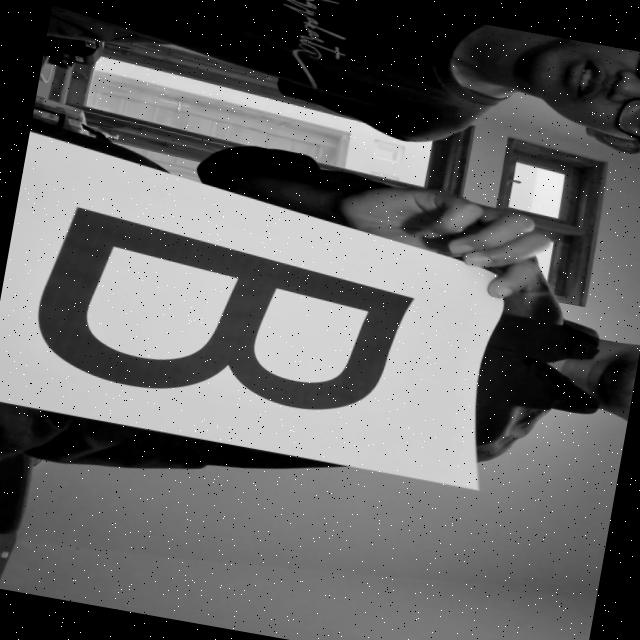b: (11, 193, 440, 448)
